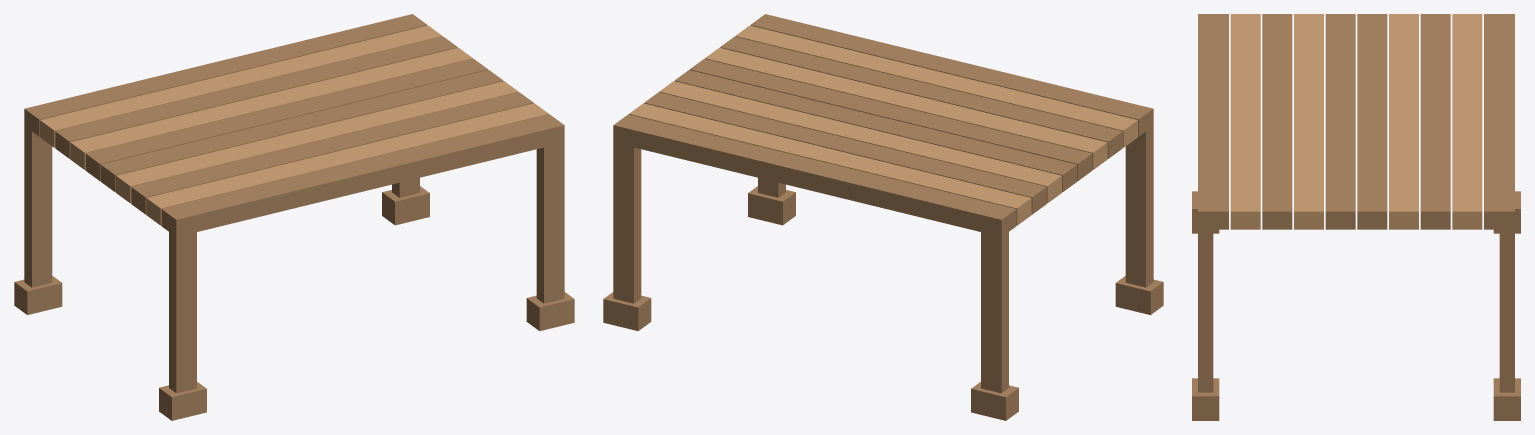
File: table01_color01.fbx
3 renders of one model, left to right at view 1: azimuth 30°, elevation 25°; view 2: azimuth 150°, elevation 25°; view 3: azimuth 270°, elevation 25°, orthographic. The views are drawn at different scales.
Visible parts, largest first — view 1: table01_color01; view 2: table01_color01; view 3: table01_color01.
Boxes of the visible parts, x1,y1,x2,y2 form: table01_color01: (14,14,574,420); table01_color01: (603,14,1163,420); table01_color01: (1192,14,1520,420).
Size of the model in its own units: 147 by 68.86 by 99.72.
